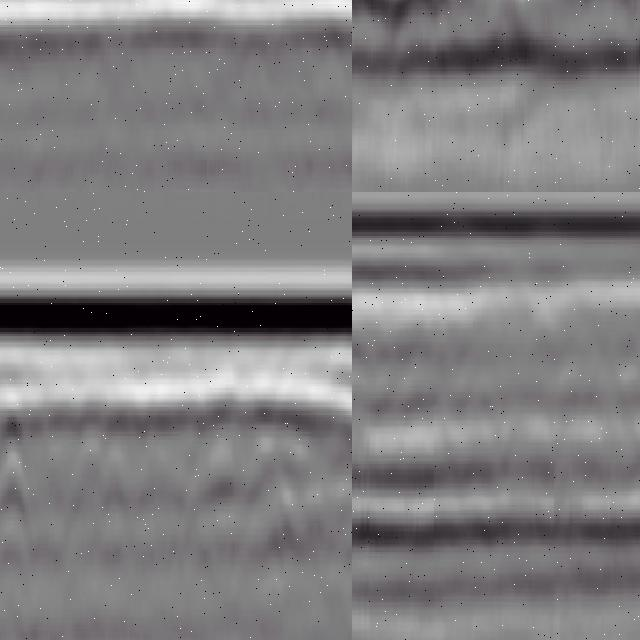crack: (1, 391, 30, 624)
loose: (373, 1, 640, 132), (175, 397, 353, 557)
